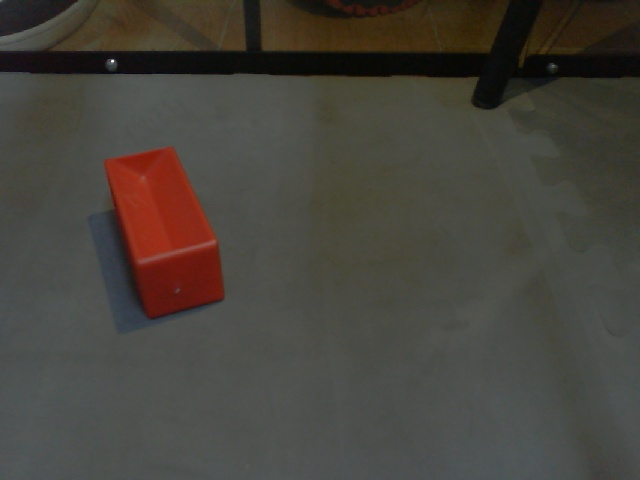RedSample: (100, 145, 227, 320)
